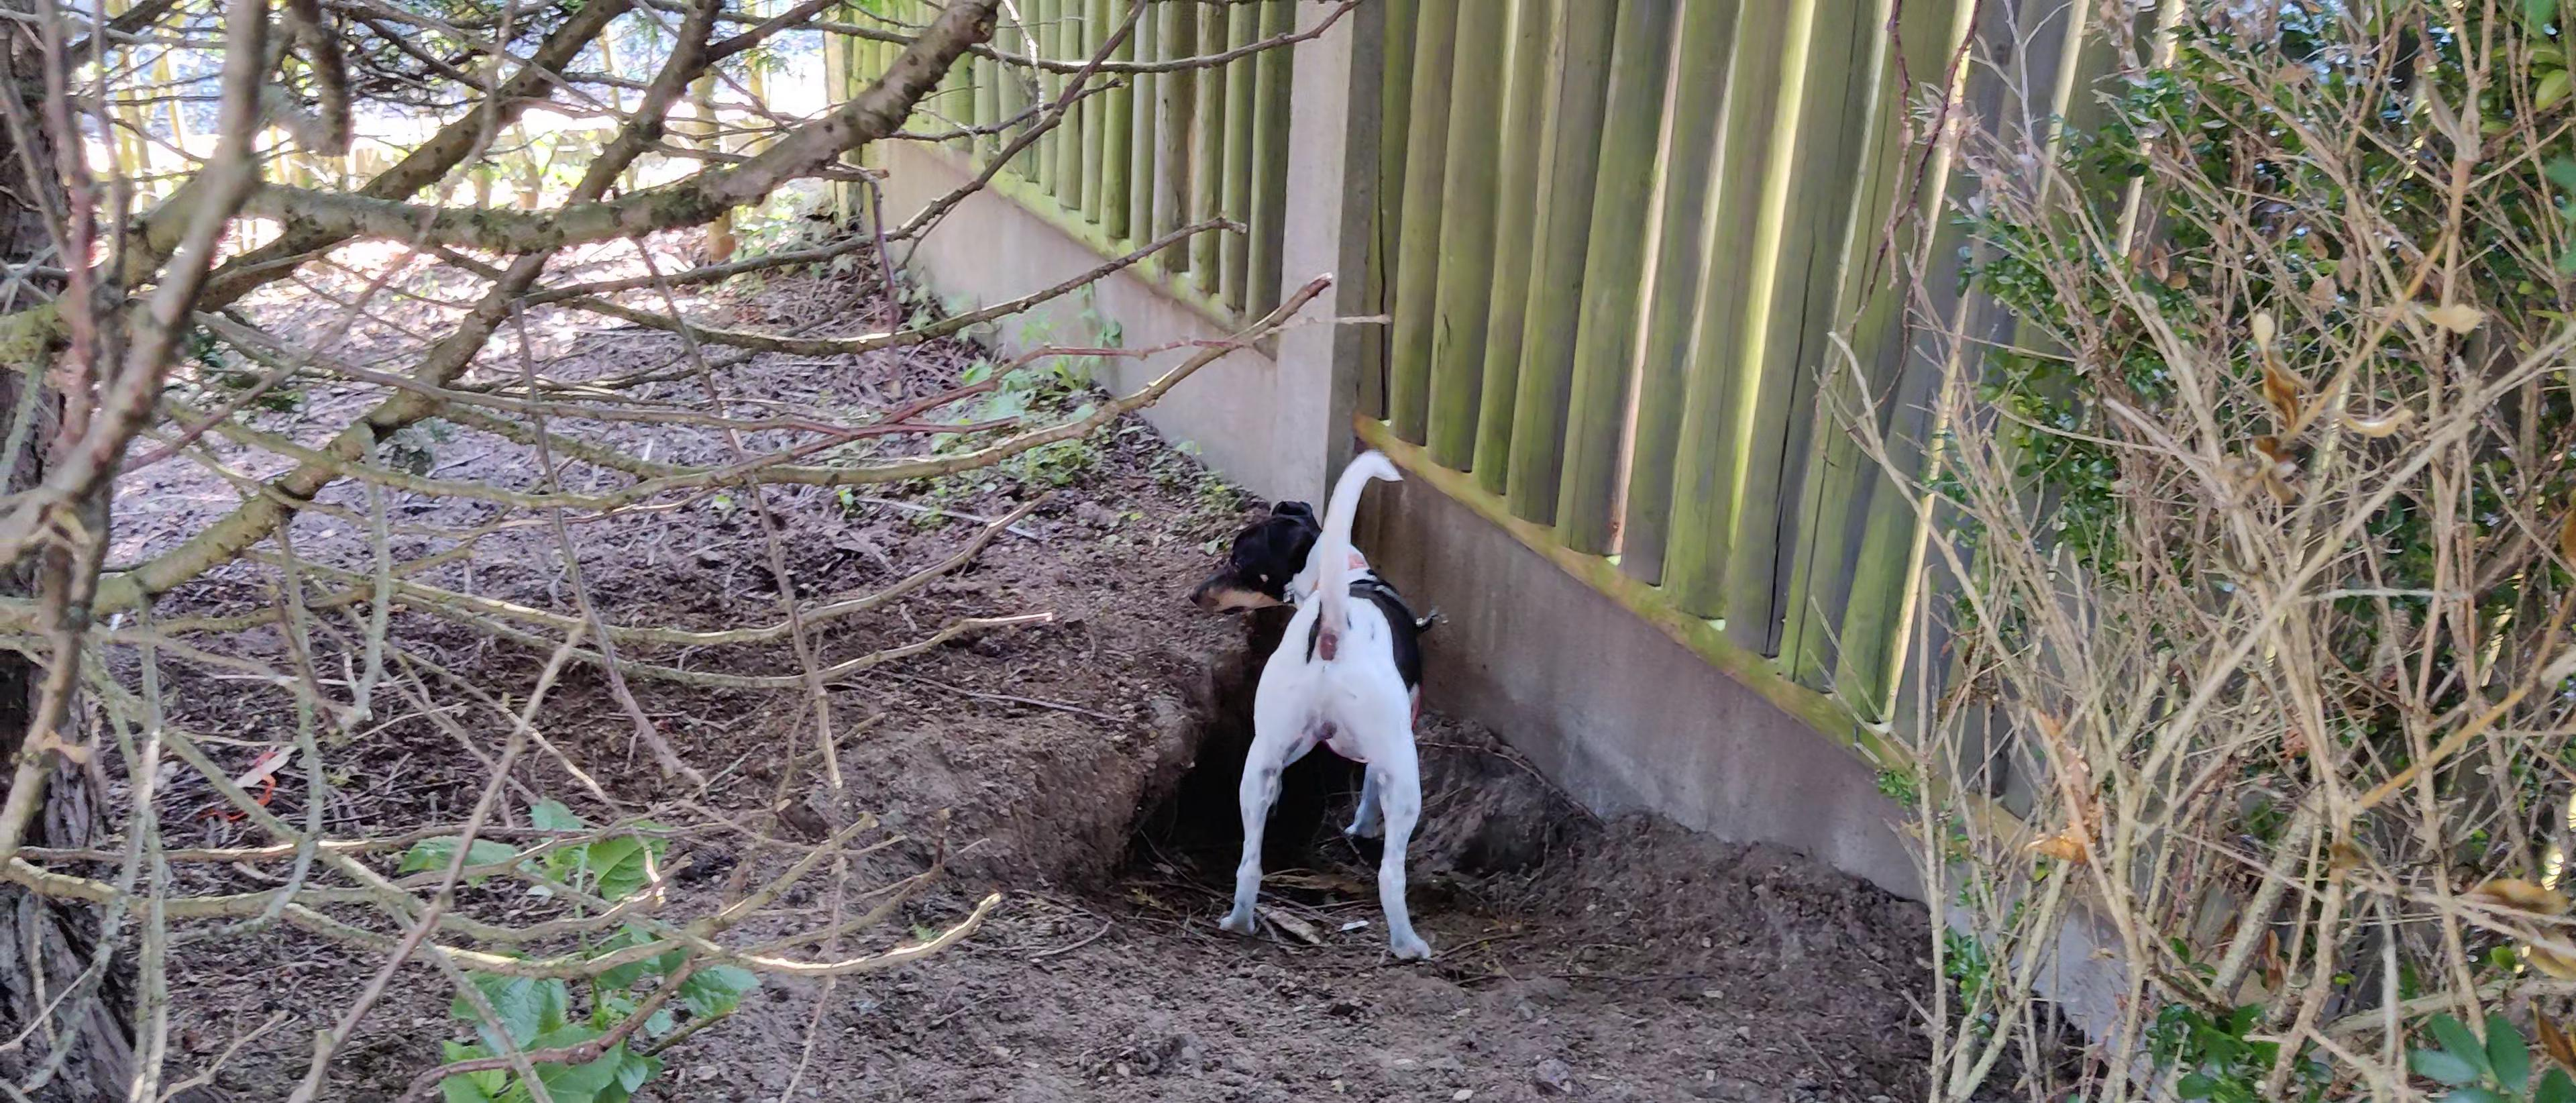Dog: (1165, 409, 1465, 986)
